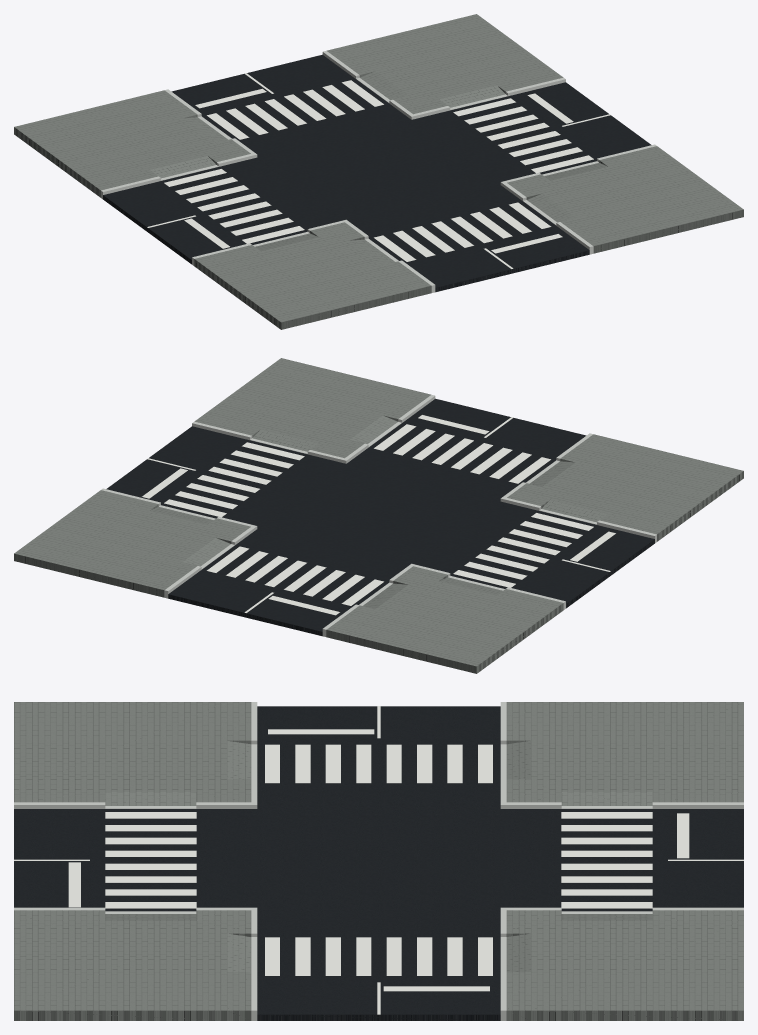
File: RK_Road_Cross_24m.fbx
The picture shows the model from 3 angles, top to bottom: view 1: azimuth 30°, elevation 25°; view 2: azimuth 150°, elevation 25°; view 3: azimuth 270°, elevation 25°; orthographic projection. The views are drawn at different scales.
Parts seen in each view (by area): view 1: COL_Asphalt.003, COL_Paving.002, Markings_White.003, COL_Concrete.002, Curb_Concrete.002; view 2: COL_Asphalt.003, COL_Paving.002, Markings_White.003, COL_Concrete.002, Curb_Concrete.002; view 3: COL_Asphalt.003, COL_Paving.002, Markings_White.003, COL_Concrete.002, Curb_Concrete.002.
Boxes of the visible parts, x1,y1,x2,y2 form: COL_Asphalt.003: (103,54,651,292); COL_Paving.002: (14,14,743,329); Markings_White.003: (147,73,610,268); COL_Concrete.002: (101,50,656,292); Curb_Concrete.002: (105,51,656,285); COL_Asphalt.003: (106,398,654,636); COL_Paving.002: (14,358,743,673); Markings_White.003: (142,415,615,615); COL_Concrete.002: (101,394,656,636); Curb_Concrete.002: (103,395,654,628); COL_Asphalt.003: (14,706,743,1020); COL_Paving.002: (14,702,743,1020); Markings_White.003: (14,706,743,1014); COL_Concrete.002: (14,702,743,1020); Curb_Concrete.002: (14,702,743,1010).
Bounding box in the file's own units: 2400 × 37 × 2400.
Materials: 4 (2 with a texture image).
